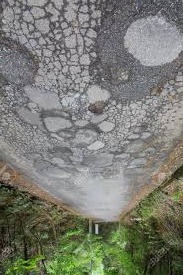pothole: (103, 62, 133, 85), (81, 101, 108, 118), (126, 131, 139, 145)
